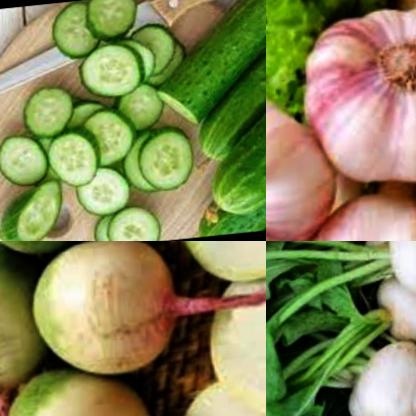cucumber: (27, 0, 197, 241), (148, 0, 266, 134), (187, 0, 266, 172), (196, 43, 266, 224), (195, 105, 266, 241), (0, 169, 63, 241), (0, 134, 47, 192)
garlic: (298, 0, 416, 201), (266, 85, 342, 241), (280, 181, 416, 241)
redka: (22, 241, 187, 385), (288, 241, 416, 416), (200, 258, 266, 416), (0, 358, 164, 416), (0, 241, 42, 406), (170, 241, 266, 290)
